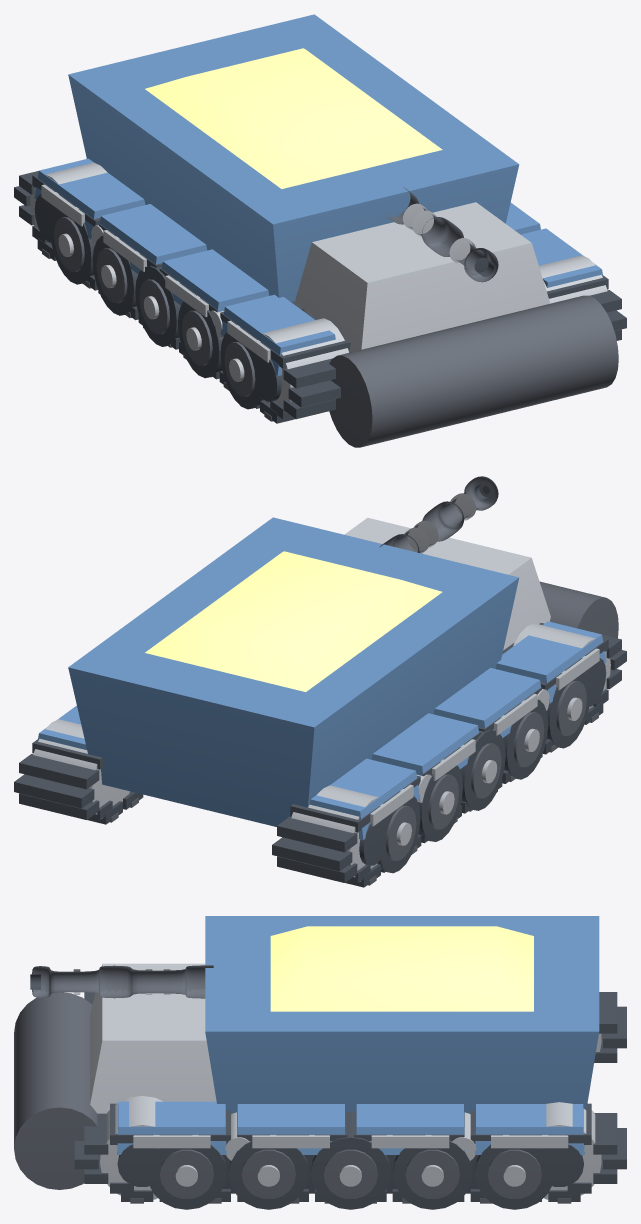
File: harv.glb
3 views of the same model, one above another, from view 1: azimuth 30°, elevation 25°; view 2: azimuth 150°, elevation 25°; view 3: azimuth 270°, elevation 25° (orthographic). The views are drawn at different scales.
Parts seen in each view (by area): view 1: Hull, Turret, Barrel; view 2: Hull, Turret, Barrel; view 3: Hull, Turret, Barrel.
Boxes of the visible parts, bbox=[...] form: Hull: bbox=[14, 75, 626, 447]; Turret: bbox=[68, 14, 518, 224]; Barrel: bbox=[395, 187, 498, 280]; Hull: bbox=[14, 501, 626, 887]; Turret: bbox=[68, 517, 518, 727]; Barrel: bbox=[380, 476, 498, 553]; Hull: bbox=[14, 963, 626, 1209]; Turret: bbox=[205, 916, 599, 1031]; Barrel: bbox=[30, 965, 213, 995].
Size of the model in its own units: 2.22 by 1.15 by 3.58.
